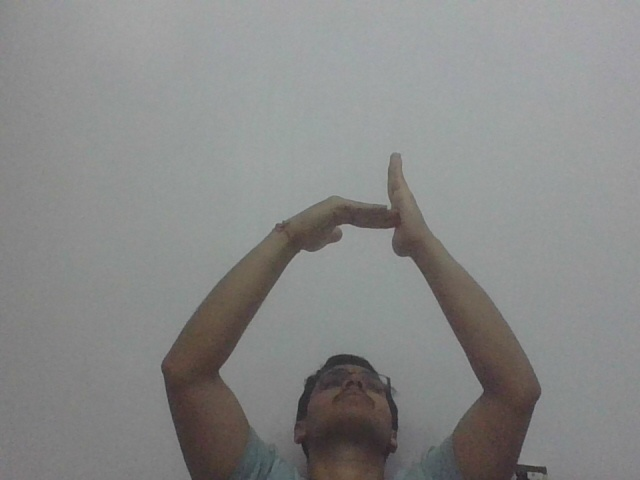Z: (299, 150, 430, 267)
